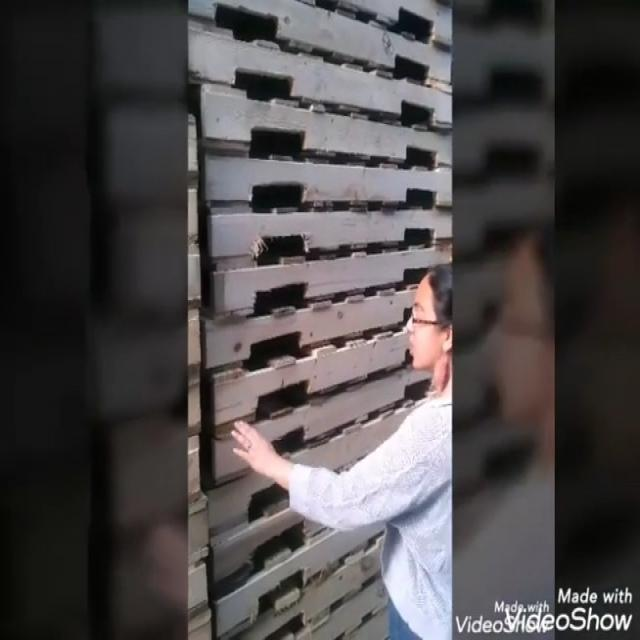Palette: (188, 0, 457, 640)
